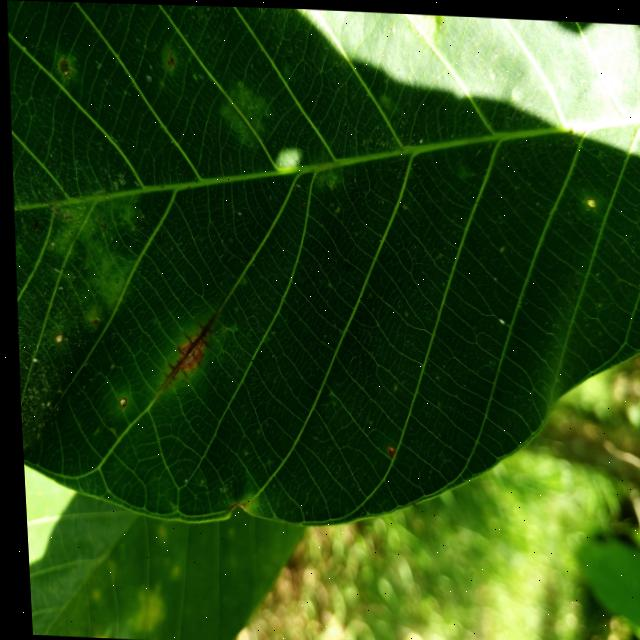Colletotrichum: (57, 60, 68, 76), (583, 194, 593, 205), (50, 332, 58, 343), (381, 443, 389, 454), (113, 396, 121, 406)
Corynespora: (152, 309, 214, 393)
